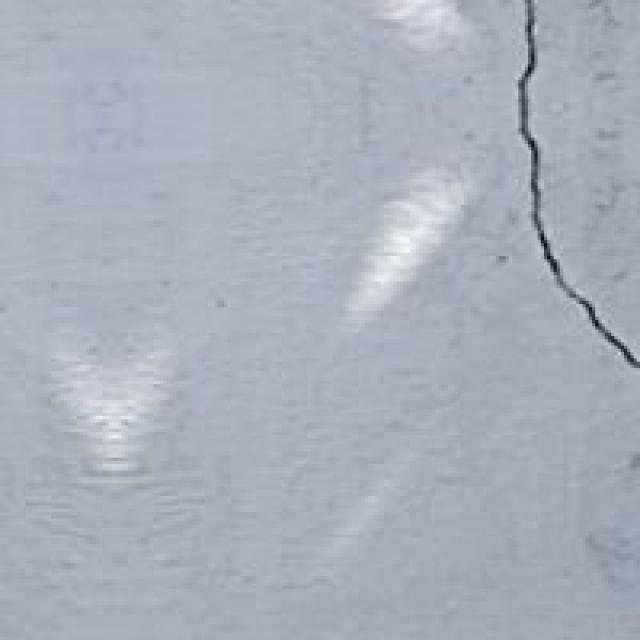Crack: (426, 6, 637, 368)
